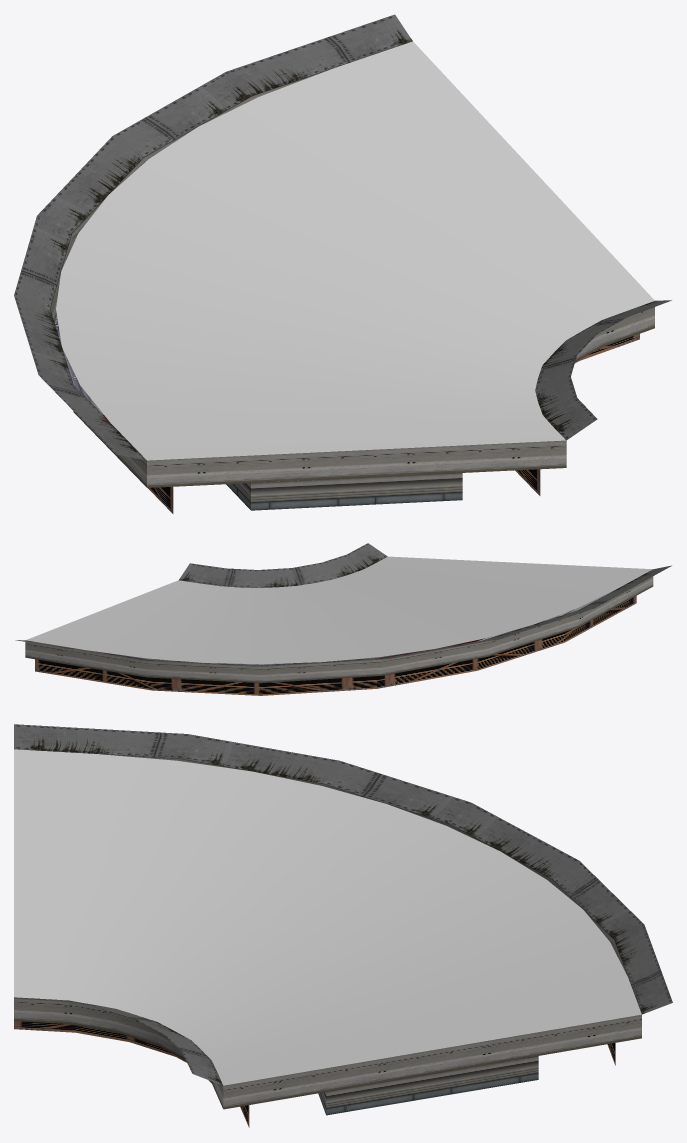
Rendered from Bend1x1Banked.fbx.
3 renders of one model, top to bottom at view 1: azimuth 30°, elevation 25°; view 2: azimuth 150°, elevation 25°; view 3: azimuth 270°, elevation 25°, orthographic. The views are drawn at different scales.
Parts seen in each view (by area): view 1: Empty_Mesh; view 2: Empty_Mesh; view 3: Empty_Mesh.
Boxes of the visible parts, bbox=[...] form: Empty_Mesh: bbox=[14, 14, 671, 513]; Empty_Mesh: bbox=[15, 543, 671, 695]; Empty_Mesh: bbox=[14, 724, 672, 1127].
Size of the model in its own units: 25.19 by 5.31 by 25.19.
